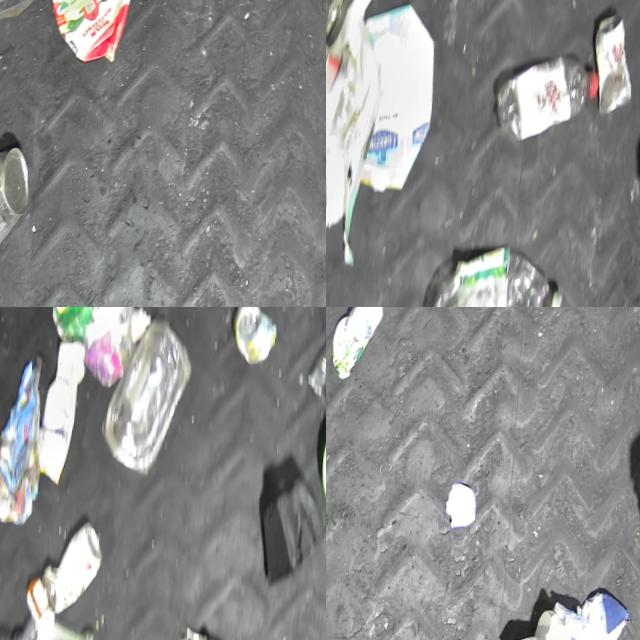can: (591, 16, 640, 124), (0, 149, 36, 269), (326, 0, 407, 51), (226, 307, 281, 374), (43, 307, 115, 346), (303, 312, 326, 427)
non_white_jug: (33, 0, 135, 77)
plastic_bottle: (496, 61, 606, 151), (431, 247, 575, 307), (326, 0, 366, 147)
